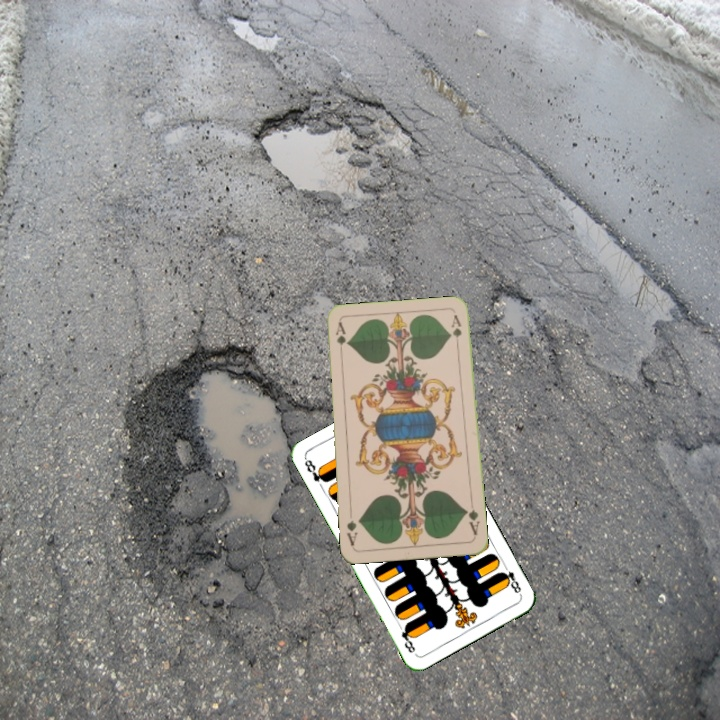E8: (496, 560, 524, 598), (300, 455, 330, 485)
GA: (331, 319, 348, 359), (462, 505, 482, 538)
